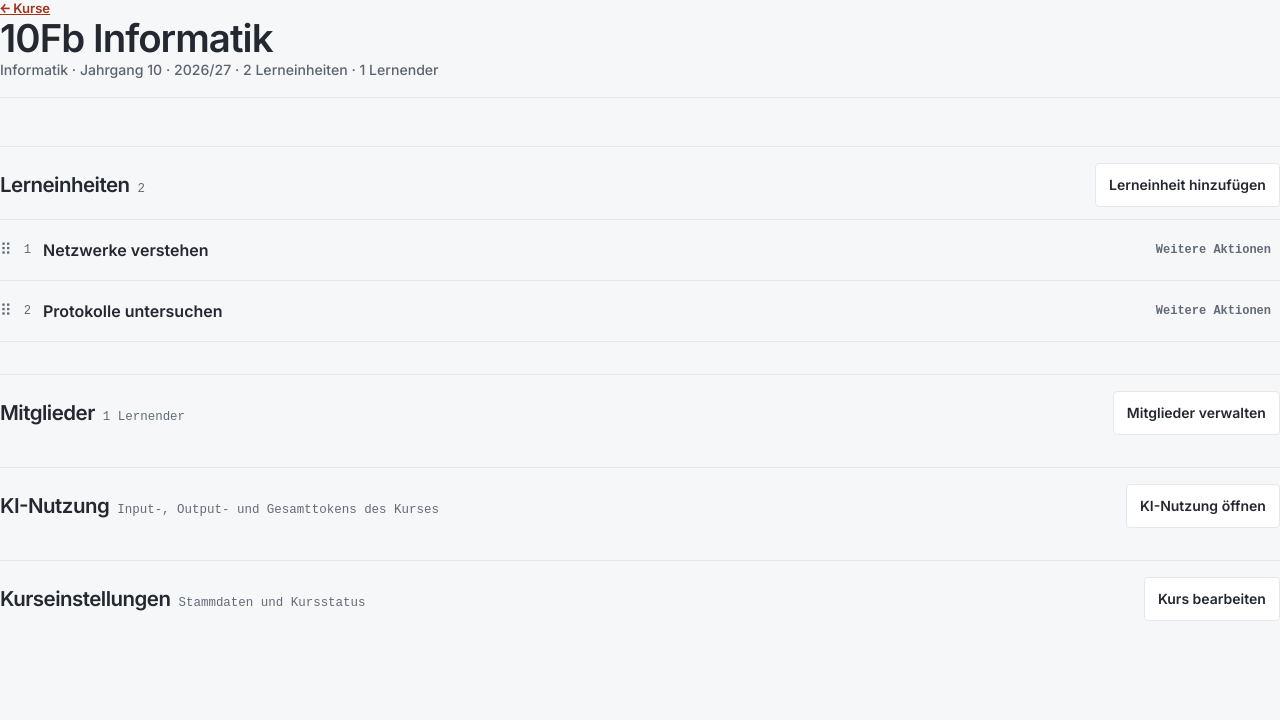
teacher course detail page › shows one unit action and no arbitrary member preview
expect the number of links "Lerneinheit hinzufügen" is 1: met, box [1095,163,1279,207]
expect the text "Alex Beispiel" is not shown: met
Click the button "Mitglieder verwalten".
click(1196, 413)  # box [1113,391,1279,435]
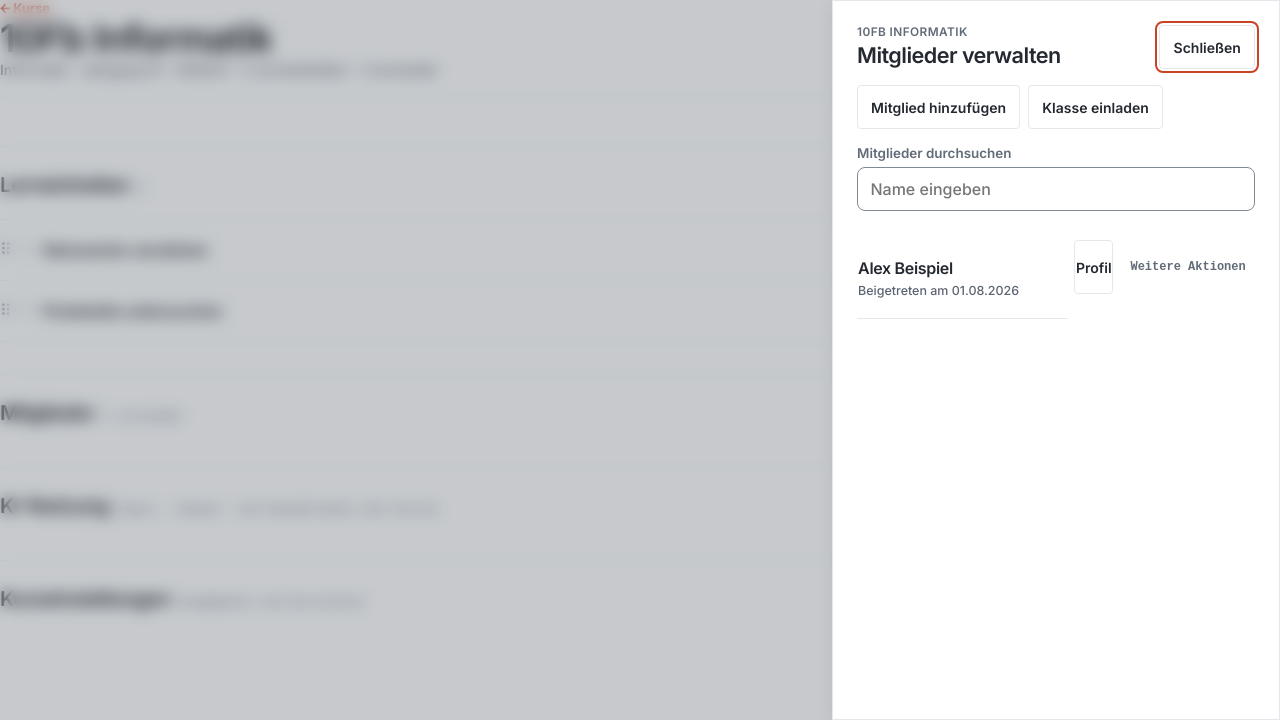
expect the link "Mitglied hinzufügen" is shown: met, box [857,85,1020,129]
